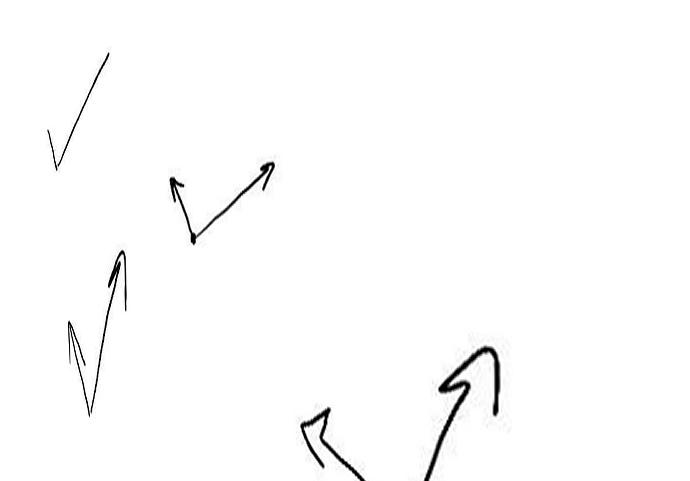arrow: (425, 343, 503, 475), (91, 250, 128, 408), (200, 162, 275, 235), (298, 402, 363, 481), (66, 319, 89, 416), (167, 178, 192, 234)
arrownohead: (60, 52, 110, 164), (44, 129, 60, 169)
